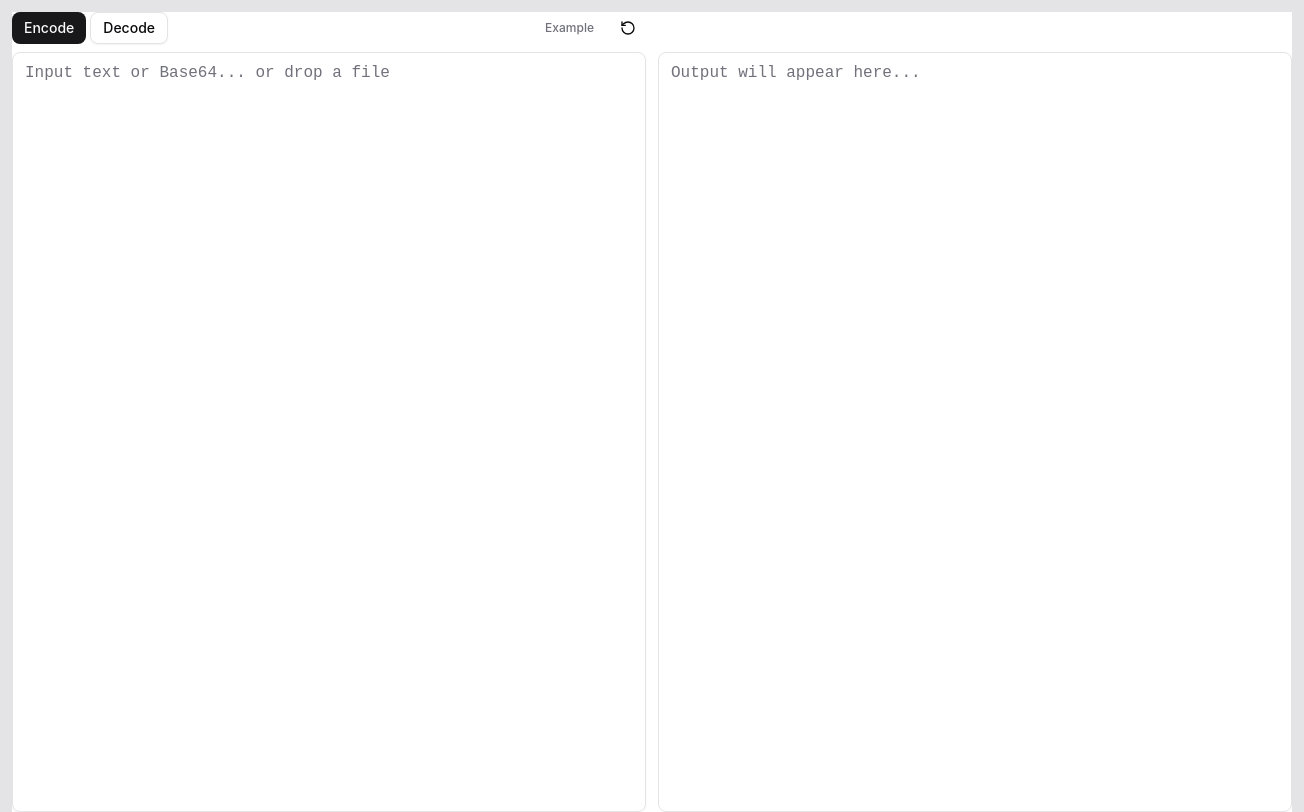
Test case: switching to Decode adopts encoded output into input
Click the button "Example". click: [570, 28]
box: [533,12,606,44]
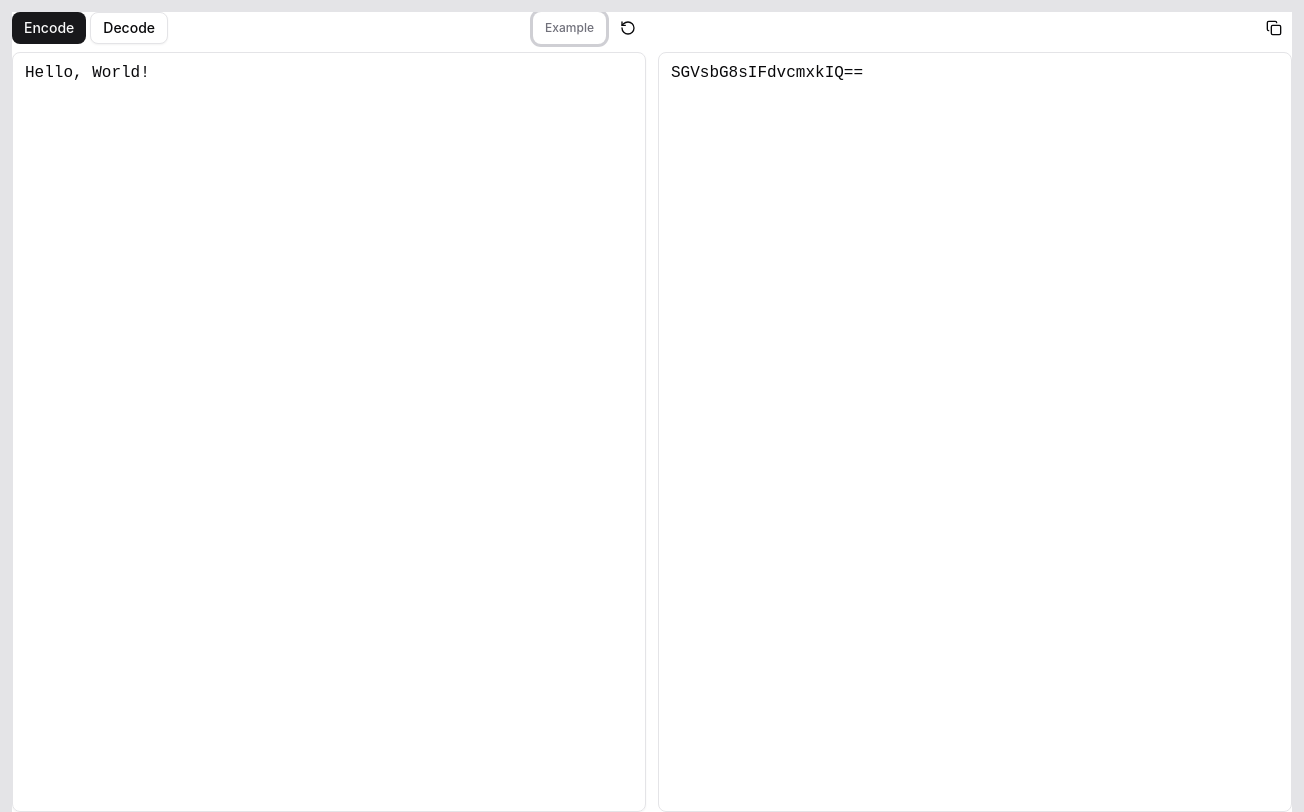
Click the button "Decode". click: [129, 28]
box: [90,12,168,44]
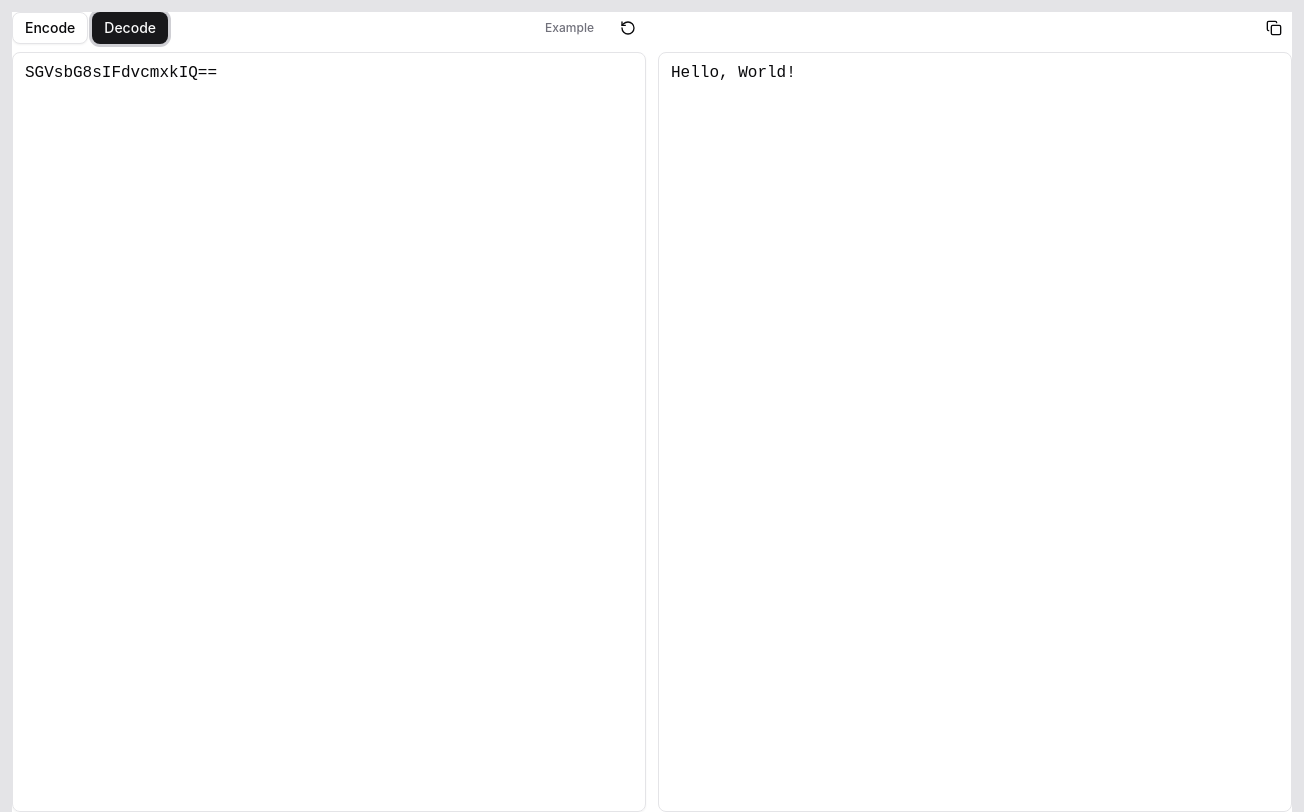
Now the text "Hello, World!" is shown, box [671,64,796,82]
